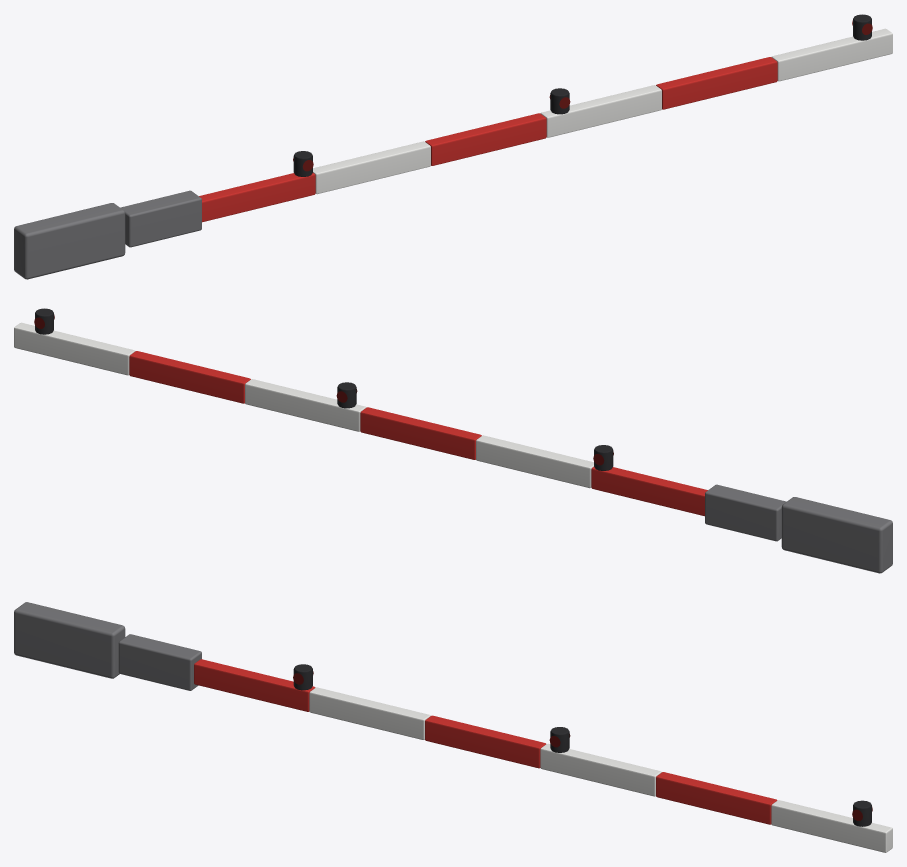
The model's file is lx_boom_4.glb.
3 views of the same model, one above another, from view 1: azimuth 30°, elevation 25°; view 2: azimuth 150°, elevation 25°; view 3: azimuth 330°, elevation 25° (orthographic).
Parts seen in each view (by area): view 1: SM_lx_boom_4; view 2: SM_lx_boom_4; view 3: SM_lx_boom_4.
Boxes of the visible parts, box(x1,y1,x2,y2) form: SM_lx_boom_4: box(14, 14, 892, 279); SM_lx_boom_4: box(14, 308, 892, 573); SM_lx_boom_4: box(14, 602, 892, 852).
Size of the model in its own units: 4.75 by 0.275 by 0.12.
